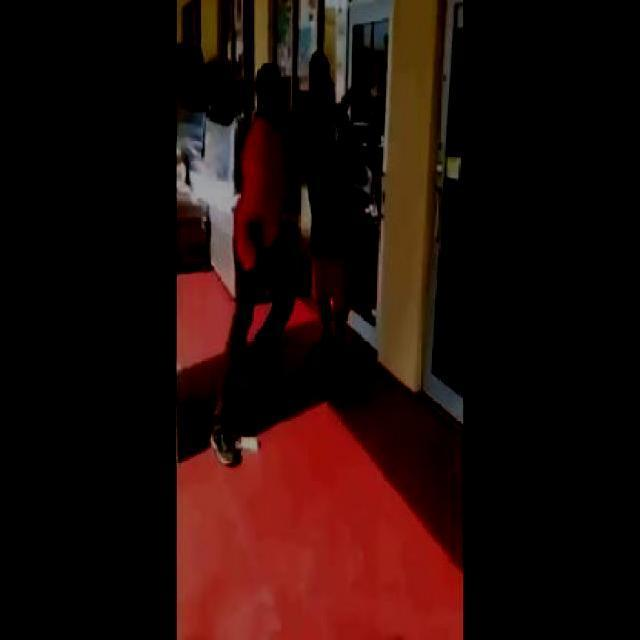fight: (208, 52, 354, 470)
